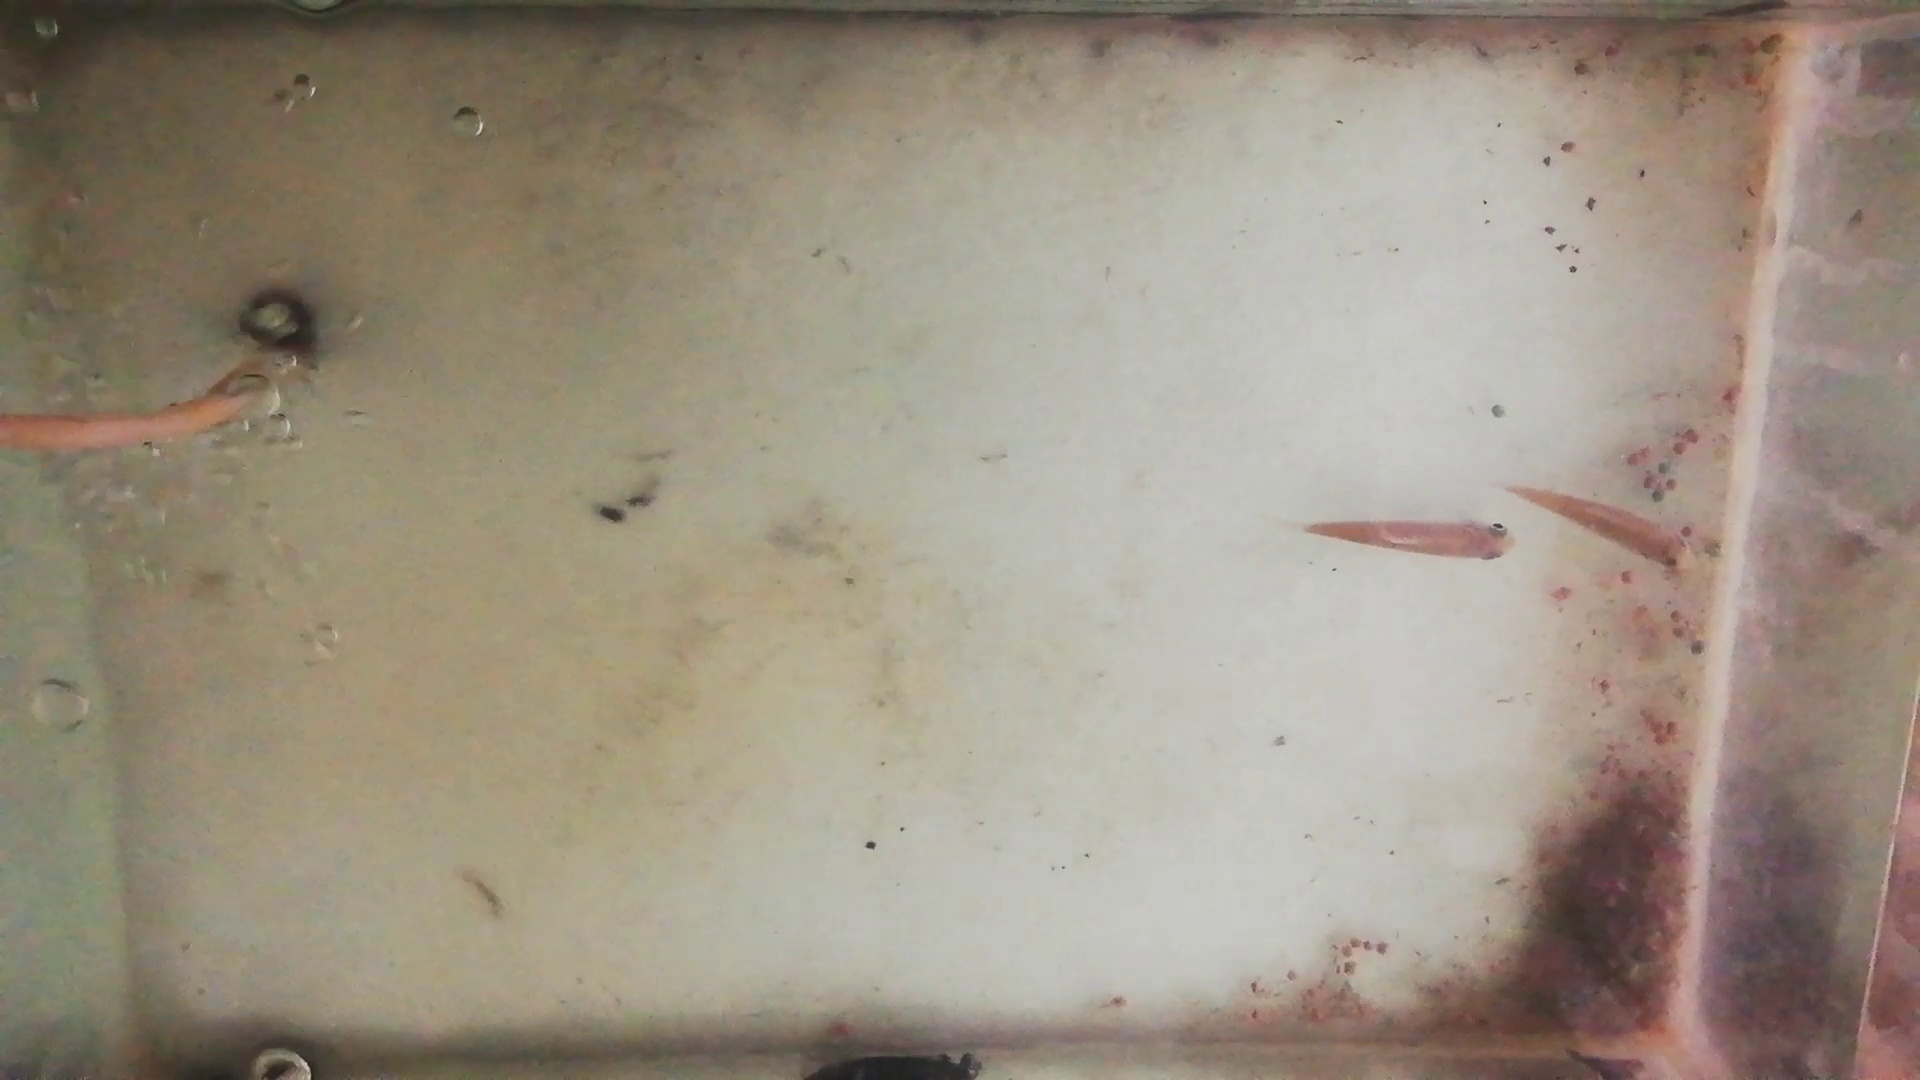fish: (1515, 483, 1697, 574), (1305, 516, 1515, 563)
